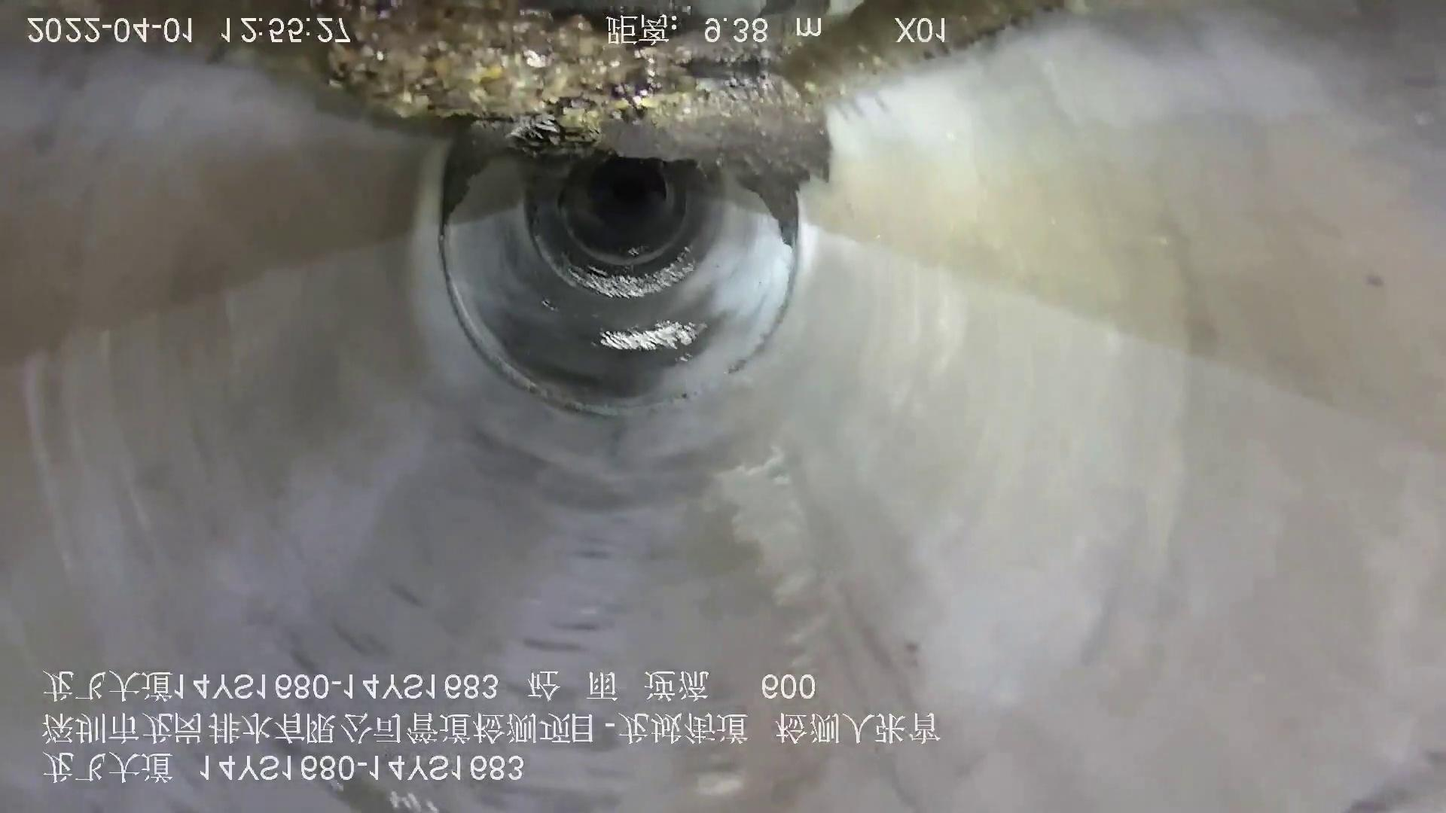CJ: (296, 1, 1083, 242)
CKTJ: (423, 193, 804, 424)
